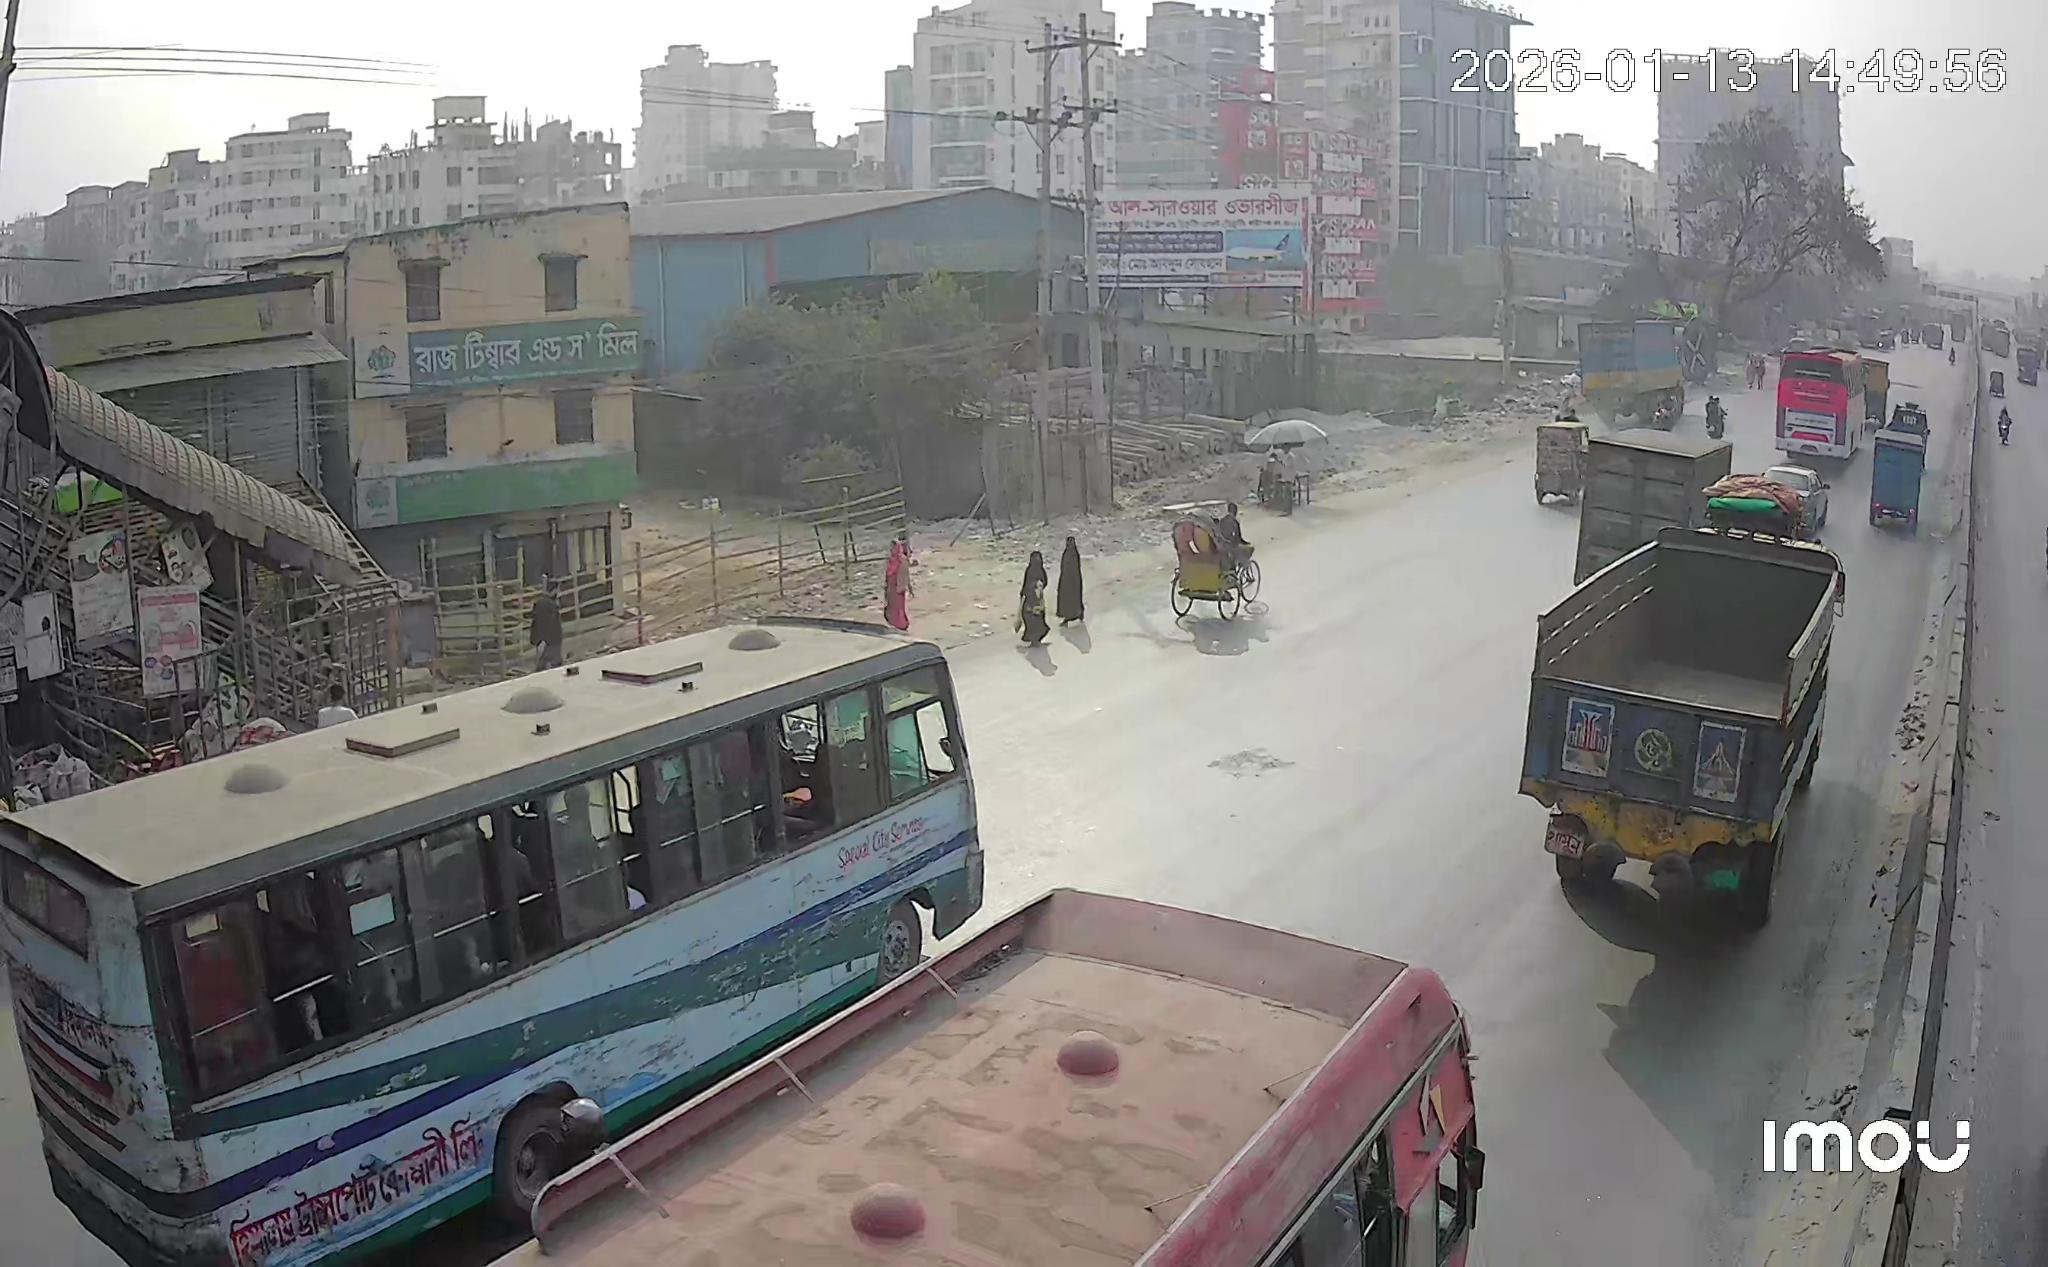Bus: (0, 619, 986, 1267), (494, 888, 1486, 1267), (1776, 348, 1865, 461)
Cycle Rickshaw: (1172, 503, 1262, 619)
Truck: (1520, 511, 1845, 926), (1573, 429, 1732, 584), (1580, 319, 1684, 426)
